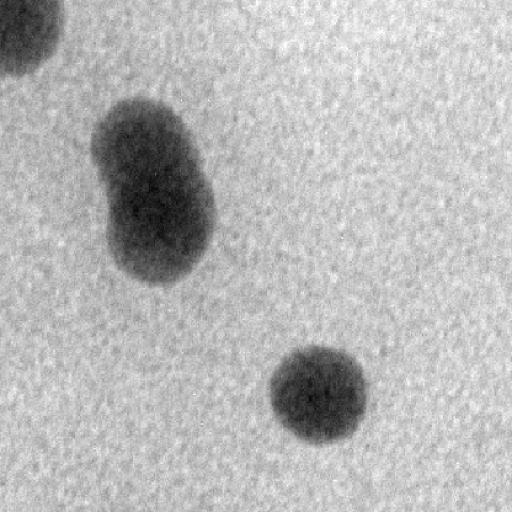Nanoparticles: (90, 96, 219, 285), (267, 343, 372, 445), (2, 2, 62, 78)
